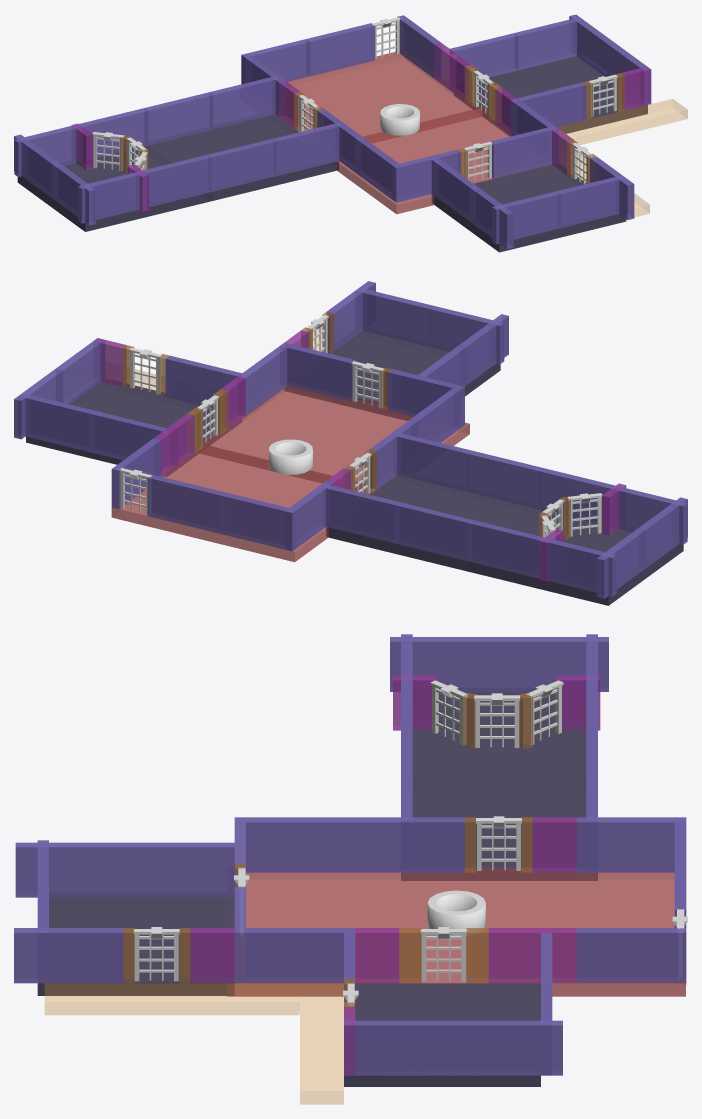
The model's file is West Area.fbx.
3 views of the same model, one above another, from view 1: azimuth 30°, elevation 25°; view 2: azimuth 150°, elevation 25°; view 3: azimuth 270°, elevation 25° (orthographic). The views are drawn at different scales.
Parts seen in each view (by area): view 1: Module_015.001, Module_015.002, Module_011.004, Module_011.001, Module_011.002, Module_011.003, Module_020.001, Module_09.033, Module_09.035, Module_09.034, Module_09.032, Module_09.004 (+42 smaller); view 2: Module_015.002, Module_015.001, Module_011.004, Module_011.002, Module_011.003, Module_011.001, Module_09.035, Module_09.033, Module_09.002, Module_09.034, Module_09.032, Module_09.001 (+38 smaller); view 3: Module_015.001, Module_015.002, Module_011.002, Module_011.004, Module_011.003, Module_011.001, Module_020.002, Module_09.003, Module_09.007, Module_09.023, Module_09.013, Module_09.008 (+36 smaller).
Part boxes in pixels (x1,y1,x2,y2): Module_015.001: [287, 52, 480, 142]; Module_015.002: [337, 107, 512, 214]; Module_011.004: [149, 112, 338, 200]; Module_011.001: [454, 56, 647, 136]; Module_011.002: [432, 163, 626, 252]; Module_011.003: [17, 143, 212, 231]; Module_020.001: [557, 99, 687, 144]; Module_09.033: [144, 92, 213, 145]; Module_09.035: [208, 139, 276, 191]; Module_09.034: [273, 123, 341, 175]; Module_09.032: [209, 76, 277, 129]; Module_09.004: [490, 126, 558, 178]; Module_015.002: [201, 386, 469, 493]; Module_015.001: [111, 444, 375, 562]; Module_011.004: [326, 472, 537, 571]; Module_011.002: [284, 328, 500, 420]; Module_011.003: [467, 507, 683, 605]; Module_011.001: [26, 378, 241, 476]; Module_09.035: [466, 450, 542, 509]; Module_09.033: [395, 502, 471, 560]; Module_09.002: [220, 492, 296, 551]; Module_09.034: [394, 432, 469, 491]; Module_09.032: [323, 485, 399, 543]; Module_09.001: [147, 474, 223, 533]; Module_015.001: [456, 867, 686, 996]; Module_015.002: [227, 872, 456, 996]; Module_011.002: [37, 893, 234, 995]; Module_011.004: [401, 777, 597, 880]; Module_011.003: [412, 688, 586, 777]; Module_011.001: [344, 983, 540, 1086]; Module_020.002: [45, 983, 299, 1014]; Module_09.003: [576, 928, 686, 983]; Module_09.007: [246, 817, 355, 872]; Module_09.023: [125, 842, 234, 897]; Module_09.013: [344, 1020, 453, 1075]; Module_09.008: [355, 817, 464, 872].
Bounding box in the file's own units: 9919 × 726 × 6954.
